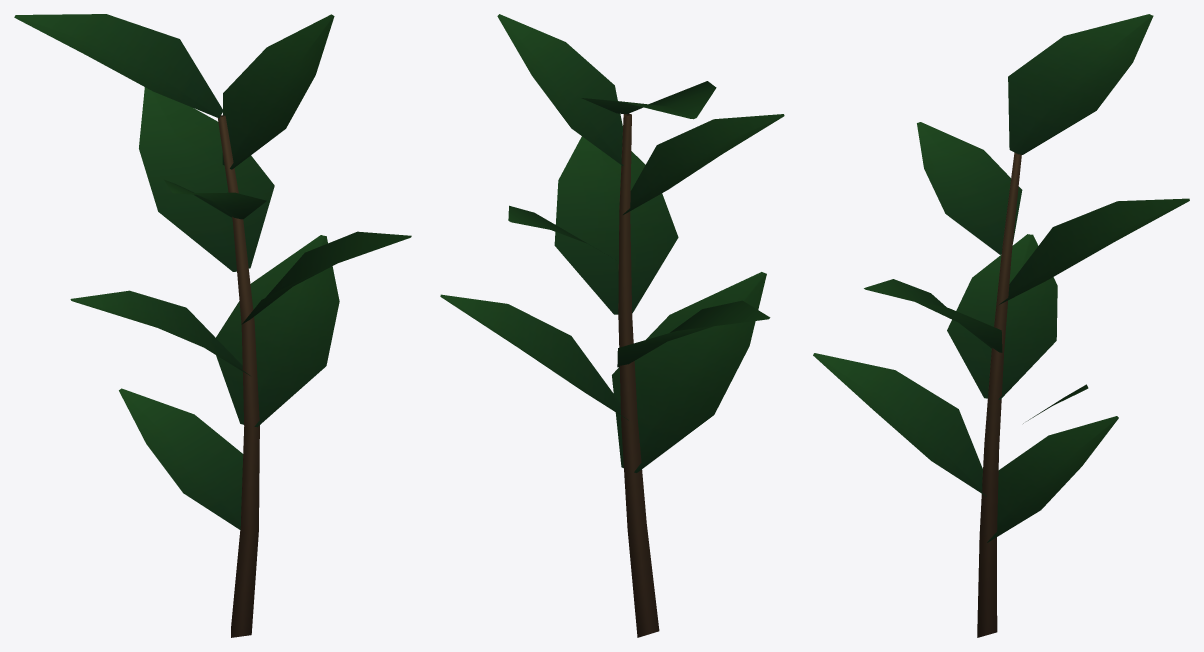
The model's file is treeKitsuneCamelliaSmall.fbx.
3 renders of one model, left to right at view 1: azimuth 30°, elevation 25°; view 2: azimuth 150°, elevation 25°; view 3: azimuth 270°, elevation 25°, orthographic. The views are drawn at different scales.
Parts seen in each view (by area): view 1: treeKitsuneCamelliaSmall; view 2: treeKitsuneCamelliaSmall; view 3: treeKitsuneCamelliaSmall.
Boxes of the visible parts, left/top/right/bottom form: treeKitsuneCamelliaSmall: left=14, top=14, right=411, bottom=637; treeKitsuneCamelliaSmall: left=440, top=14, right=784, bottom=637; treeKitsuneCamelliaSmall: left=813, top=14, right=1189, bottom=637.
Size of the model in its own units: 0.1883 by 0.3719 by 0.2284.
Materials: 1 (1 with a texture image).
